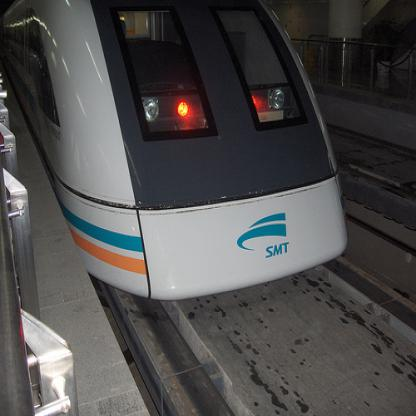train: (4, 0, 350, 305)
